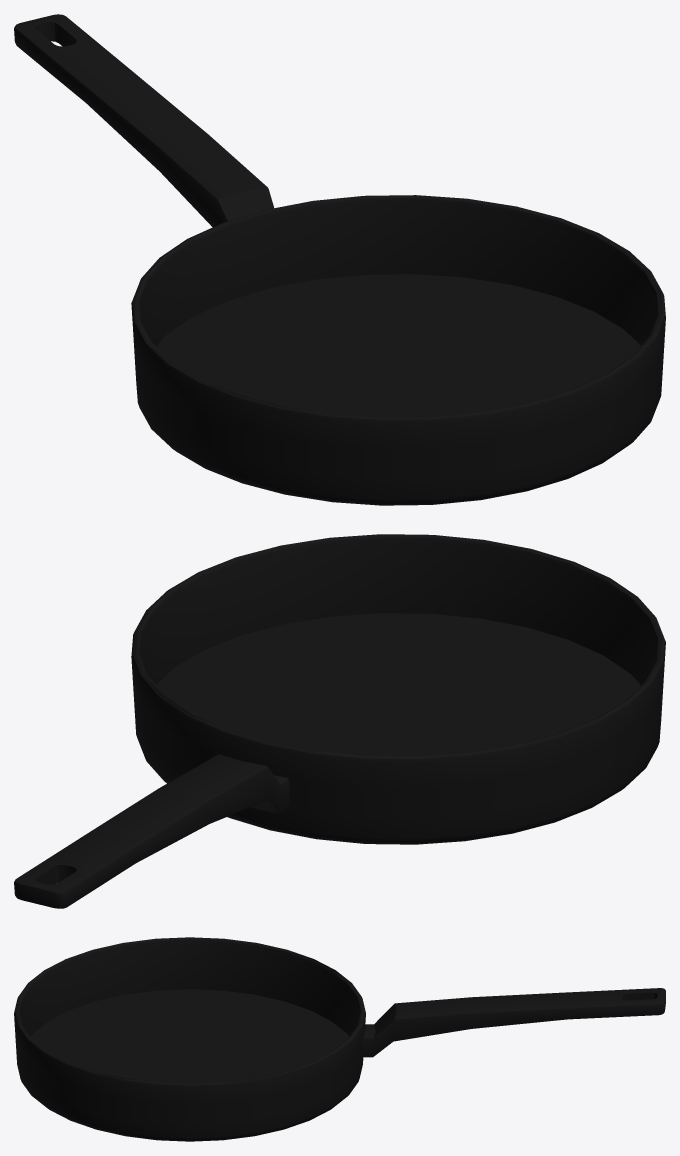
Rendered from frying_pan.fbx.
The picture shows the model from 3 angles, top to bottom: view 1: azimuth 30°, elevation 25°; view 2: azimuth 150°, elevation 25°; view 3: azimuth 270°, elevation 25°; orthographic projection. The views are drawn at different scales.
Parts seen in each view (by area): view 1: Frying Pan; view 2: Frying Pan; view 3: Frying Pan.
Boxes of the visible parts, x1,y1,x2,y2 form: Frying Pan: (14, 14, 665, 505); Frying Pan: (14, 534, 665, 908); Frying Pan: (14, 937, 665, 1141).
Size of the model in its own units: 59.94 by 14.25 by 111.
1 material, 1 textured.
